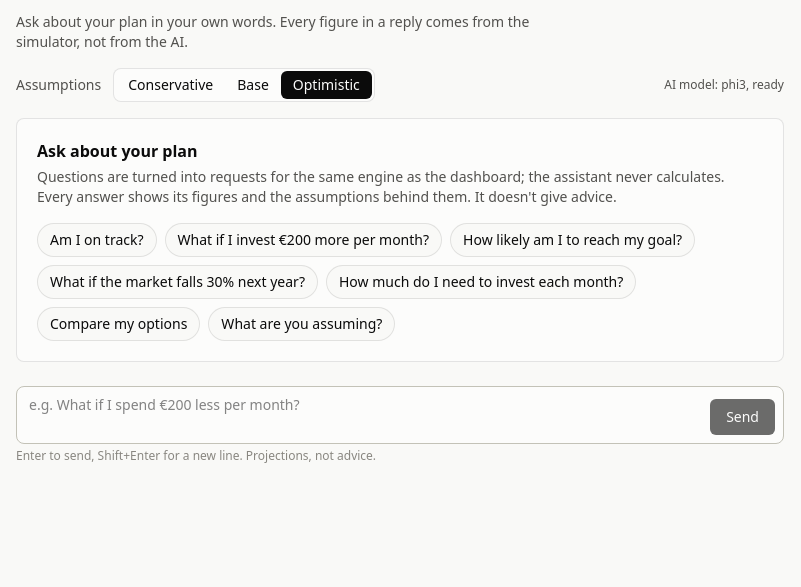
Scenario: Ask page › keeps the question when the API fails, and retries it
Type "Am I on track?" into the text box with id "chat-input".
click(364, 415); type("Am I on track?")  # box [25,395,702,435]
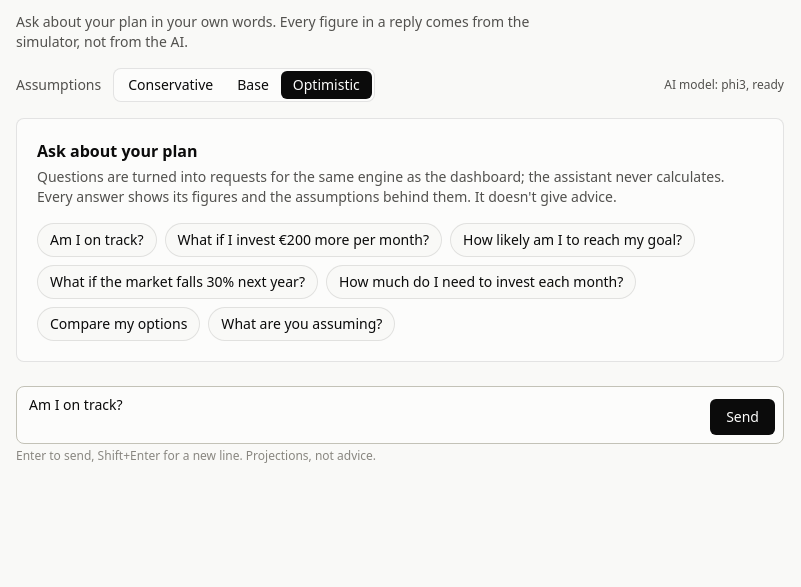
Submit the form, box [16,378,784,480]
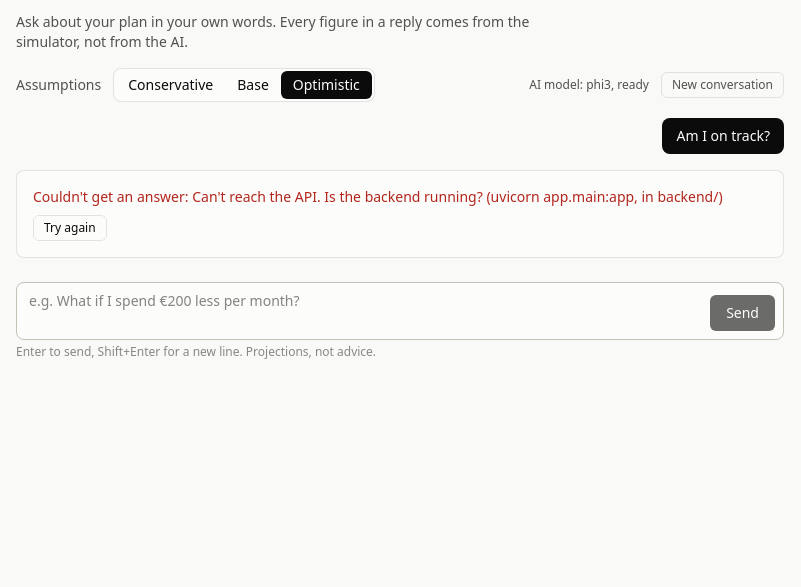
Check: the message shows "Is the backend running?", box [33,187,723,206]
Click the button "Try again".
click(70, 228)  # box [33,215,107,241]
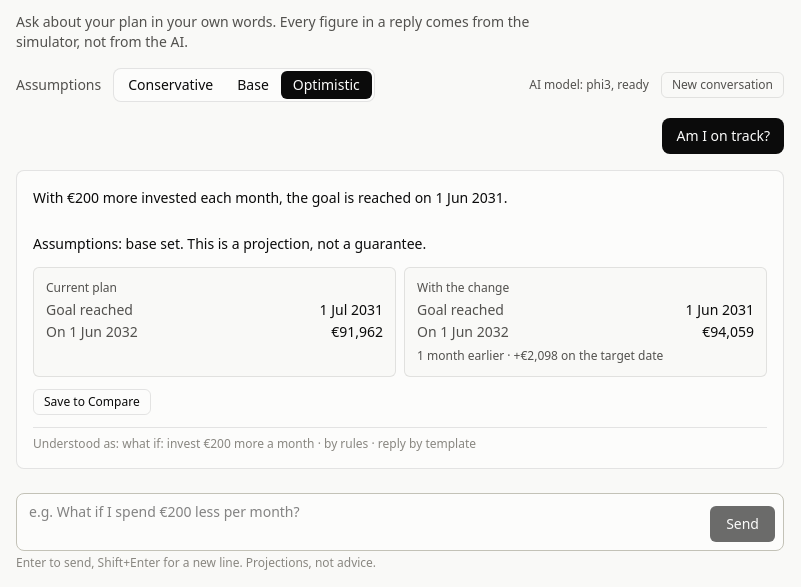
Check: the element named "Reply: answered" is shown, box [16,170,784,469]
